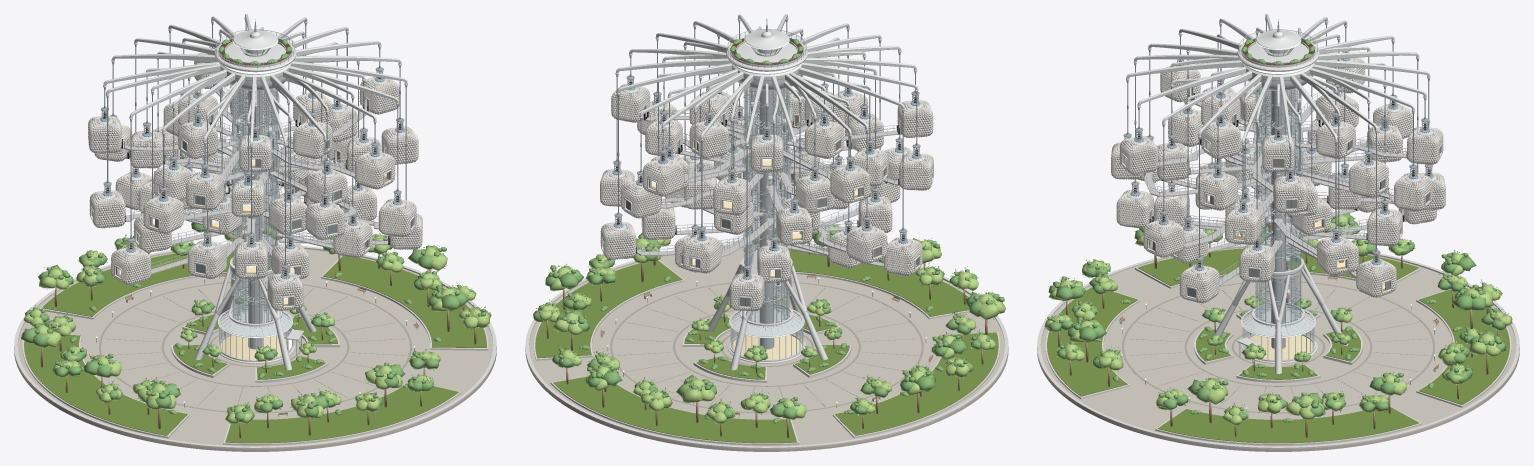
File: q04a-suspended-pod-tower.glb
The picture shows the model from 3 angles, left to right: view 1: azimuth 30°, elevation 25°; view 2: azimuth 150°, elevation 25°; view 3: azimuth 270°, elevation 25°; orthographic projection.
Parts seen in each view (by area): view 1: PLAZA_GROUND, CORE_STRUCTURE, CROWN_HUB, CORE_TUBES, CORE_BASE, CORE_LEGS, CORE_BASE_GLASS, POD_OUTER_17, POD_OUTER_11, POD_OUTER_12, POD_OUTER_18, POD_OUTER_16 (+55 smaller); view 2: PLAZA_GROUND, CORE_STRUCTURE, CROWN_HUB, CORE_TUBES, CORE_BASE, CORE_LEGS, CORE_BASE_GLASS, POD_OUTER_05, POD_OUTER_10, POD_INNER_07, POD_OUTER_09, POD_OUTER_11 (+59 smaller); view 3: PLAZA_GROUND, CORE_STRUCTURE, CORE_TUBES, CROWN_HUB, CORE_BASE, CORE_LEGS, CORE_BASE_GLASS, POD_OUTER_18, POD_OUTER_17, POD_OUTER_03, POD_OUTER_04, POD_OUTER_15 (+58 smaller).
Part boxes in pixels (x1,y1,x2,y2): PLAZA_GROUND: (14,244,496,451); CORE_STRUCTURE: (229,88,278,349); CROWN_HUB: (214,19,296,90); CORE_TUBES: (232,88,278,323); CORE_BASE: (216,303,303,363); CORE_LEGS: (194,261,316,370); CORE_BASE_GLASS: (220,311,291,359); POD_OUTER_17: (355,142,395,189); POD_OUTER_11: (111,238,151,285); POD_OUTER_12: (143,187,183,233); POD_OUTER_18: (378,190,416,237); POD_OUTER_16: (305,192,344,239); PLAZA_GROUND: (525,244,1008,451); CORE_STRUCTURE: (741,88,792,349); CROWN_HUB: (726,19,807,90); CORE_TUBES: (744,88,789,323); CORE_BASE: (727,302,805,363); CORE_LEGS: (707,261,827,370); CORE_BASE_GLASS: (731,311,802,359); POD_OUTER_05: (642,149,683,196); POD_OUTER_10: (846,216,887,263); POD_INNER_07: (804,111,844,158); POD_OUTER_09: (830,156,870,203); POD_OUTER_11: (883,229,922,276); PLAZA_GROUND: (1037,244,1519,451); CORE_STRUCTURE: (1255,88,1304,348); CORE_TUBES: (1255,88,1301,322); CROWN_HUB: (1237,19,1319,90); CORE_BASE: (1237,303,1317,363); CORE_LEGS: (1214,260,1348,373); CORE_BASE_GLASS: (1243,312,1313,359); POD_OUTER_18: (1143,210,1183,257); POD_OUTER_17: (1119,127,1158,174); POD_OUTER_03: (1356,250,1396,297); POD_OUTER_04: (1394,164,1432,211); POD_OUTER_15: (1116,181,1154,228).
Bounding box in the file's own units: 80 × 60.5 × 80.
